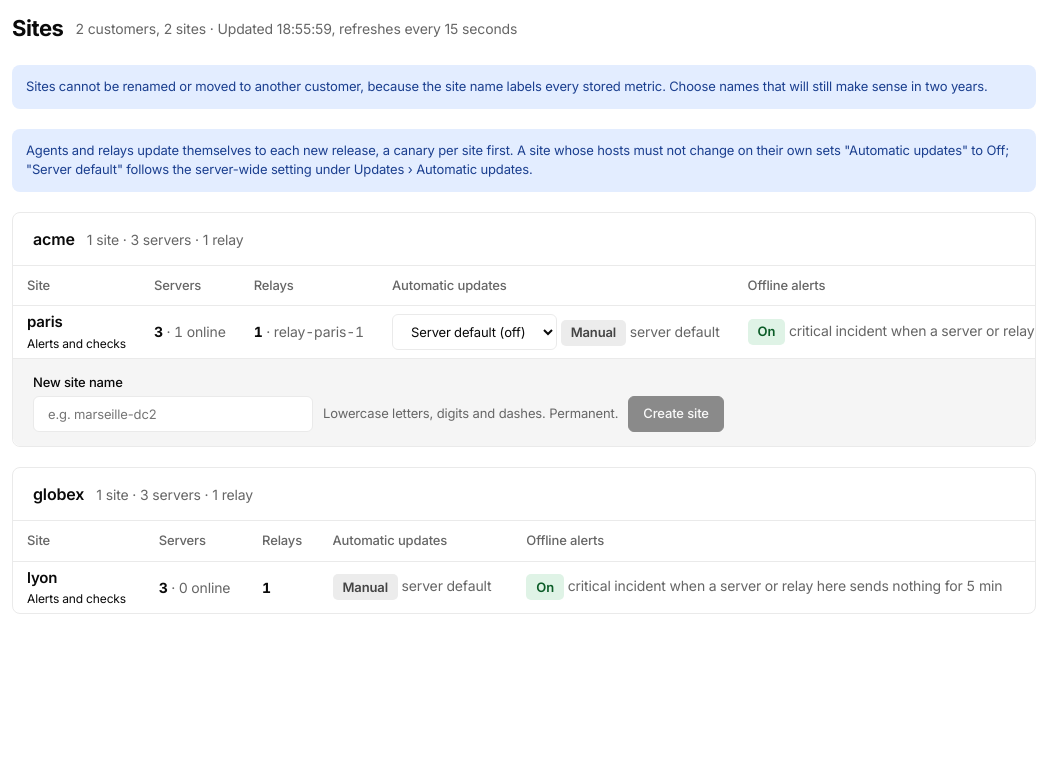
Scenario: SitesAdmin › overrides automatic updates for administrators only
expect the row "paris" shows "Manual": met, box [571,324,616,340]
expect the row "lyon" shows "server default": met, box [402,578,491,594]
Select "On" in the dropdown named "Automatic updates for paris" at coordinates (474, 332), box [392,314,557,350]
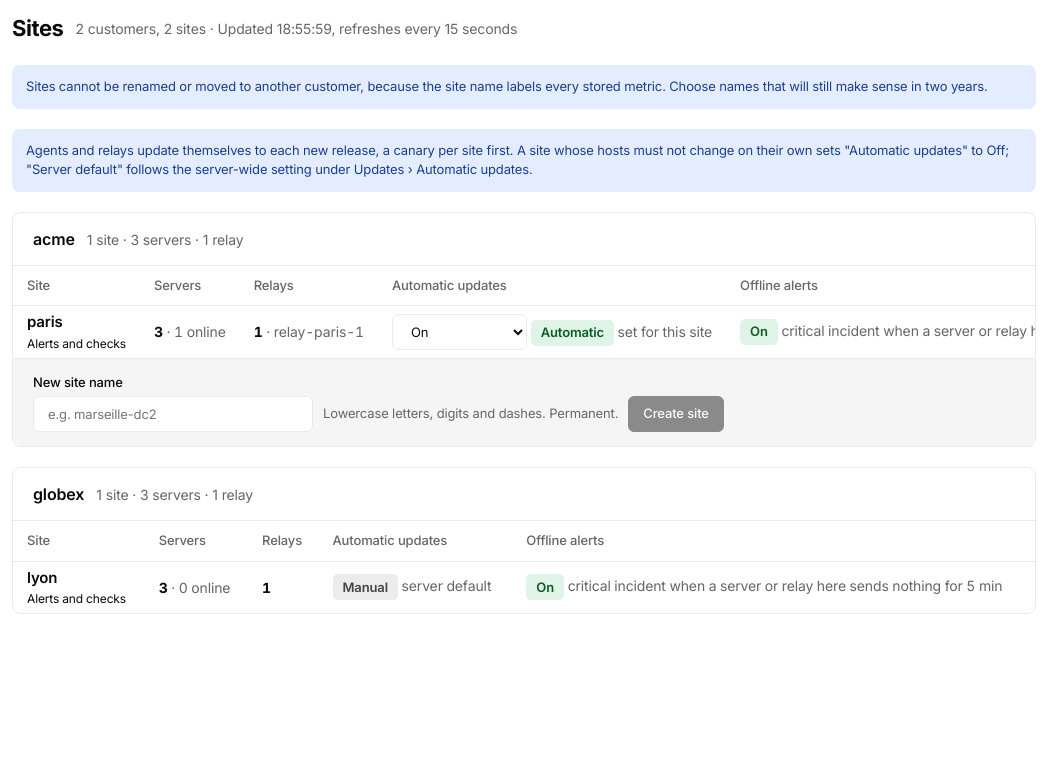
expect the row "paris" shows "Automatic": met, box [541,324,604,340]
expect the row "paris" shows "set for this site": met, box [618,323,712,340]
